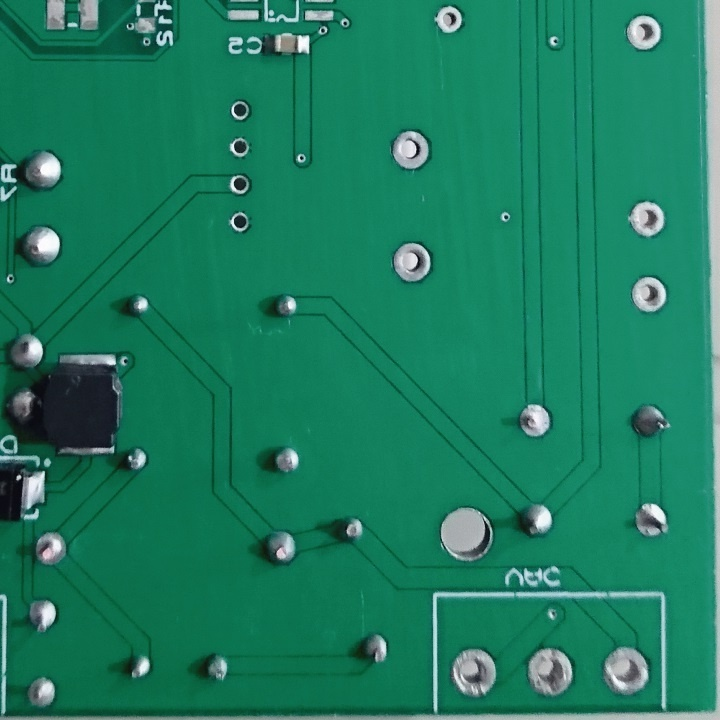F: (596, 643, 653, 698), (446, 645, 499, 700), (525, 646, 576, 700), (387, 123, 435, 176), (388, 237, 434, 285), (624, 198, 670, 240), (630, 499, 673, 543), (627, 274, 668, 315), (33, 527, 70, 572), (516, 400, 554, 442), (627, 13, 664, 56), (25, 672, 61, 714), (27, 596, 61, 639), (432, 1, 467, 37), (229, 96, 253, 125), (227, 171, 252, 198), (229, 208, 253, 236), (228, 136, 253, 158)
